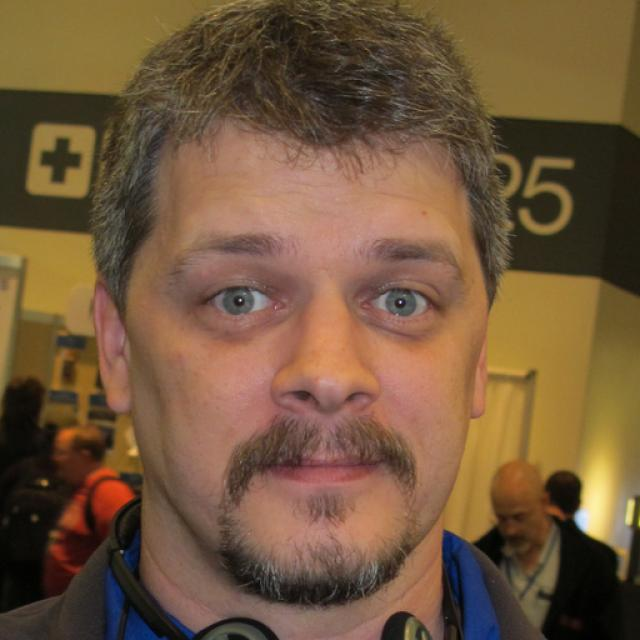Dark Circle: (353, 301, 439, 343), (192, 304, 290, 340)
